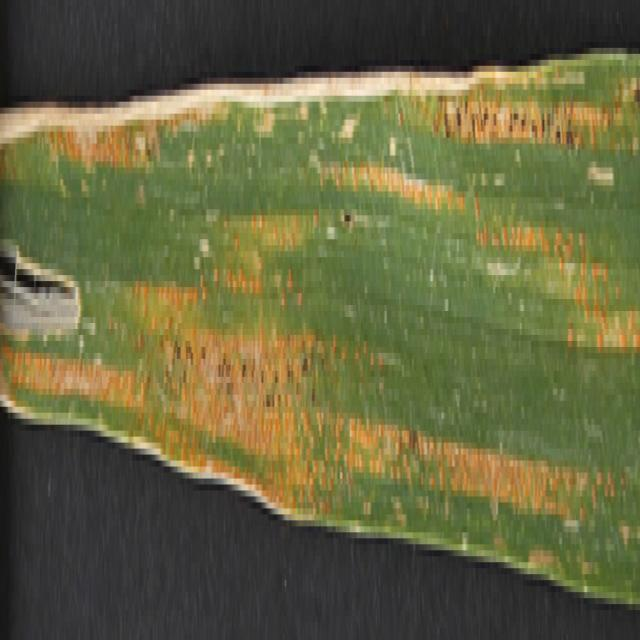leaf rust: (2, 6, 638, 592)
